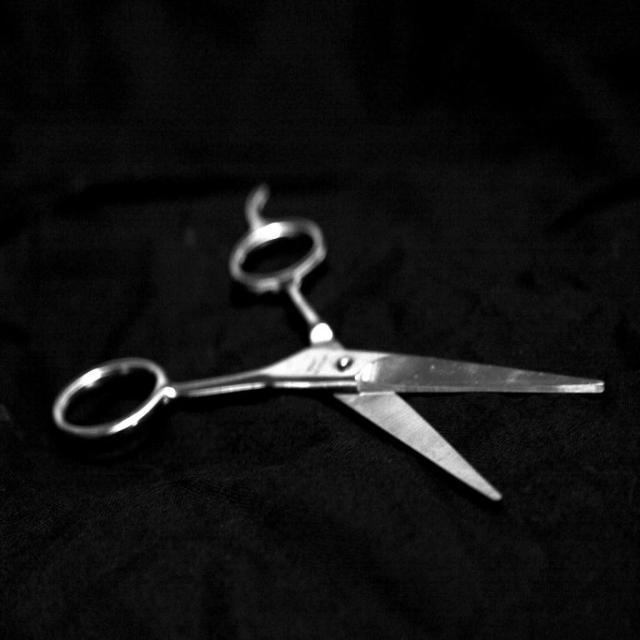scissors: (51, 182, 605, 503)
